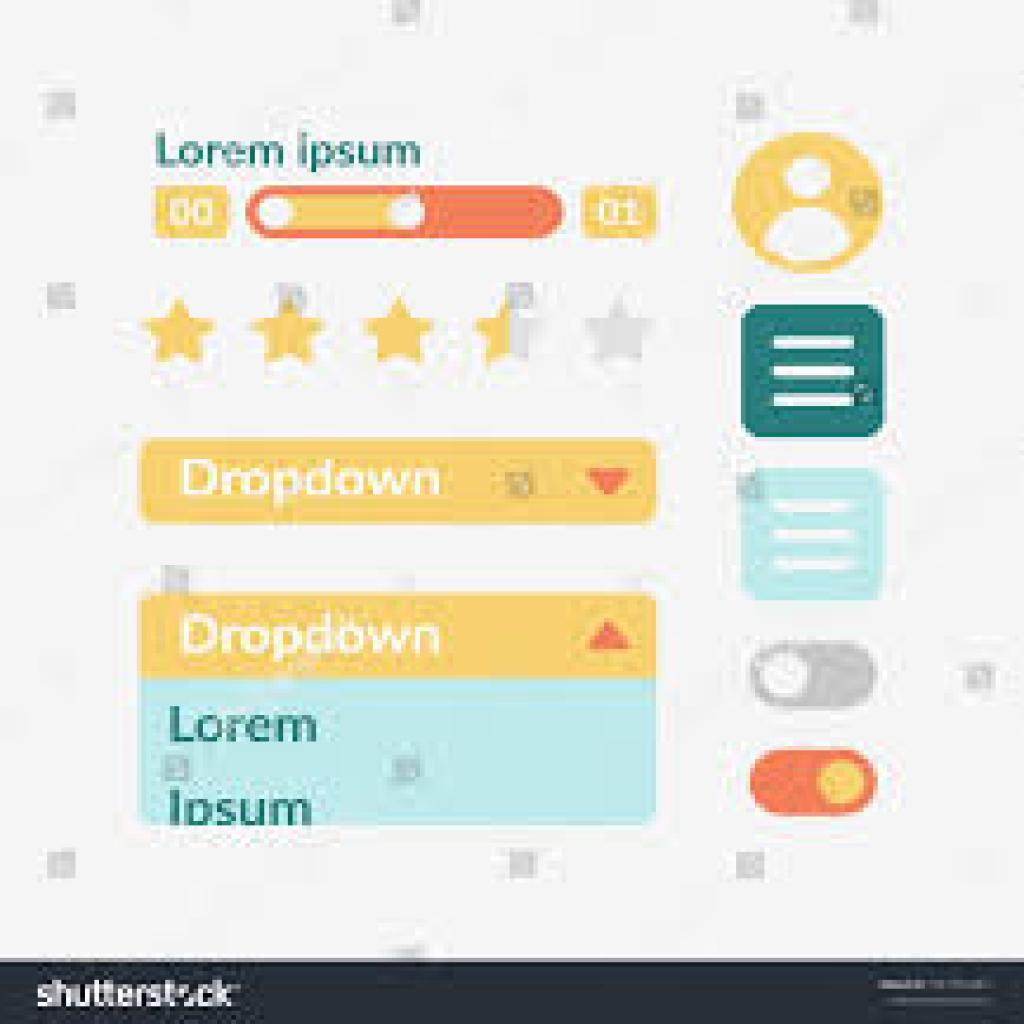dropdown: (139, 437, 659, 526), (141, 595, 656, 677)
slider: (150, 174, 669, 259)
switch: (739, 748, 887, 822), (752, 634, 881, 714)
